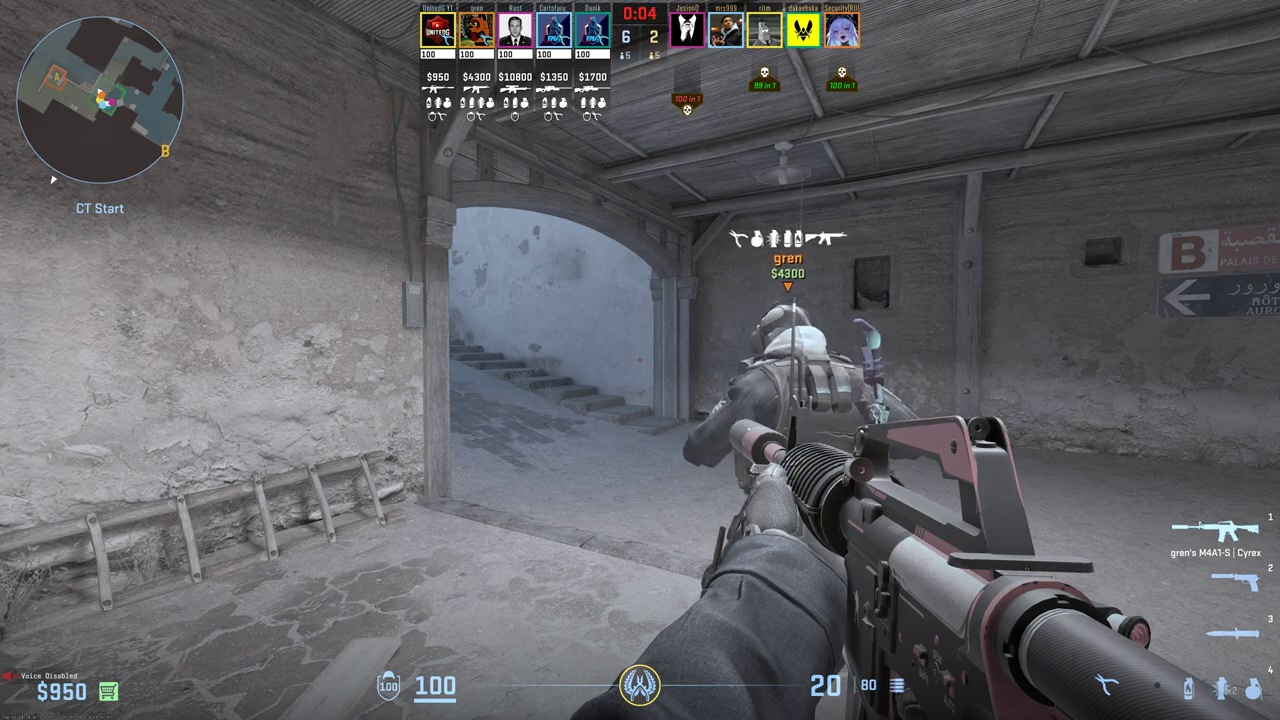CT: (713, 303, 876, 526)
